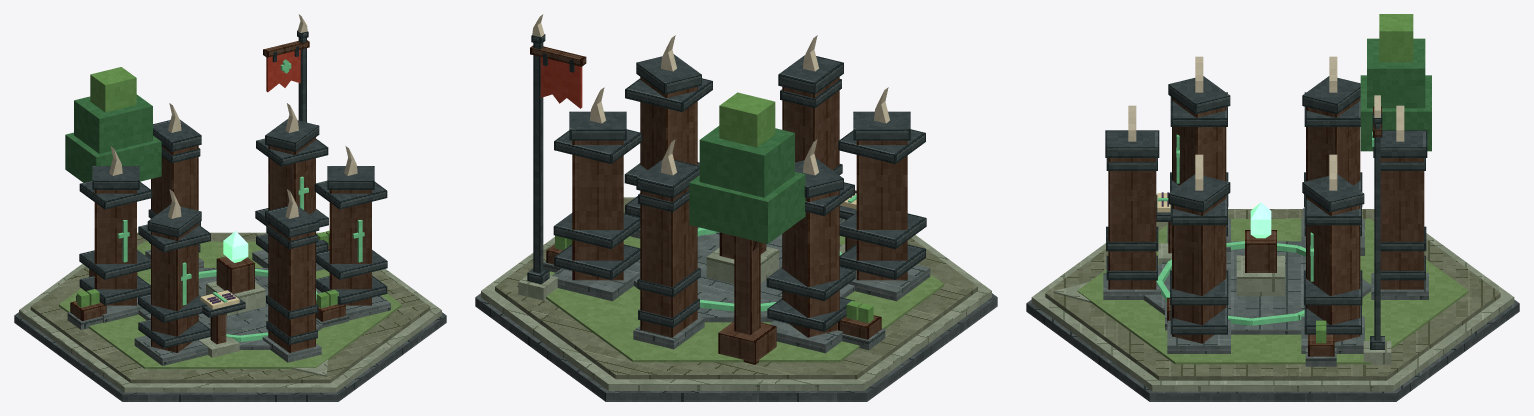
The model's file is orc_druidic_circle_hex_v1.glb.
3 views of the same model, side by side, from view 1: azimuth 30°, elevation 25°; view 2: azimuth 150°, elevation 25°; view 3: azimuth 270°, elevation 25° (orthographic). The views are drawn at different scales.
Visible parts, largest first — view 1: Orc_Druidic_Circle_Hex_V1_Hall, Orc_Druidic_Circle_Hex_V1_Foundation, Orc_Druidic_Circle_Hex_V1_Focus, Orc_Druidic_Circle_Hex_V1_Courtyard, Orc_Druidic_Circle_Hex_V1_Details, Orc_Druidic_Circle_Hex_V1_Roofs, Orc_Druidic_Circle_Hex_V1_Training, Orc_Druidic_Circle_Hex_V1_Faction; view 2: Orc_Druidic_Circle_Hex_V1_Hall, Orc_Druidic_Circle_Hex_V1_Foundation, Orc_Druidic_Circle_Hex_V1_Focus, Orc_Druidic_Circle_Hex_V1_Courtyard, Orc_Druidic_Circle_Hex_V1_Details, Orc_Druidic_Circle_Hex_V1_Roofs, Orc_Druidic_Circle_Hex_V1_Faction, Orc_Druidic_Circle_Hex_V1_Training; view 3: Orc_Druidic_Circle_Hex_V1_Hall, Orc_Druidic_Circle_Hex_V1_Foundation, Orc_Druidic_Circle_Hex_V1_Courtyard, Orc_Druidic_Circle_Hex_V1_Focus, Orc_Druidic_Circle_Hex_V1_Roofs, Orc_Druidic_Circle_Hex_V1_Details, Orc_Druidic_Circle_Hex_V1_Faction, Orc_Druidic_Circle_Hex_V1_Training.
Part boxes in pixels (<box>): Orc_Druidic_Circle_Hex_V1_Hall: <box>76,137,390,365</box>; Orc_Druidic_Circle_Hex_V1_Foundation: <box>14,232,446,401</box>; Orc_Druidic_Circle_Hex_V1_Focus: <box>65,67,364,315</box>; Orc_Druidic_Circle_Hex_V1_Courtyard: <box>59,241,401,376</box>; Orc_Druidic_Circle_Hex_V1_Details: <box>67,103,387,329</box>; Orc_Druidic_Circle_Hex_V1_Roofs: <box>92,119,374,237</box>; Orc_Druidic_Circle_Hex_V1_Training: <box>198,269,317,357</box>; Orc_Druidic_Circle_Hex_V1_Faction: <box>263,14,309,122</box>; Orc_Druidic_Circle_Hex_V1_Hall: <box>552,77,930,353</box>; Orc_Druidic_Circle_Hex_V1_Foundation: <box>475,197,997,401</box>; Orc_Druidic_Circle_Hex_V1_Focus: <box>689,92,805,364</box>; Orc_Druidic_Circle_Hex_V1_Courtyard: <box>546,233,943,362</box>; Orc_Druidic_Circle_Hex_V1_Details: <box>543,35,926,350</box>; Orc_Druidic_Circle_Hex_V1_Roofs: <box>569,54,910,198</box>; Orc_Druidic_Circle_Hex_V1_Faction: <box>518,14,586,300</box>; Orc_Druidic_Circle_Hex_V1_Training: <box>697,190,856,311</box>; Orc_Druidic_Circle_Hex_V1_Hall: <box>1103,92,1428,353</box>; Orc_Druidic_Circle_Hex_V1_Foundation: <box>1026,209,1519,401</box>; Orc_Druidic_Circle_Hex_V1_Courtyard: <box>1053,219,1468,364</box>; Orc_Druidic_Circle_Hex_V1_Focus: <box>1176,14,1431,296</box>; Orc_Druidic_Circle_Hex_V1_Roofs: <box>1105,76,1427,212</box>; Orc_Druidic_Circle_Hex_V1_Details: <box>1106,56,1426,366</box>; Orc_Druidic_Circle_Hex_V1_Faction: <box>1363,95,1391,364</box>; Orc_Druidic_Circle_Hex_V1_Training: <box>1156,192,1305,325</box>.
Bounding box in the file's own units: 1.59 × 1.16 × 1.84.
1 material, 1 textured.
